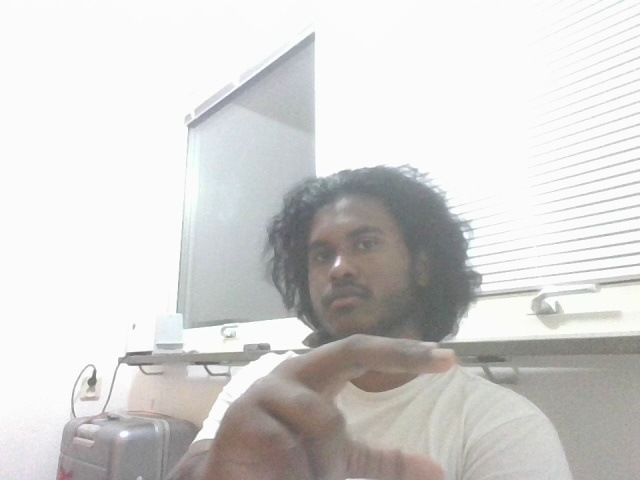no: (215, 327, 474, 480)
